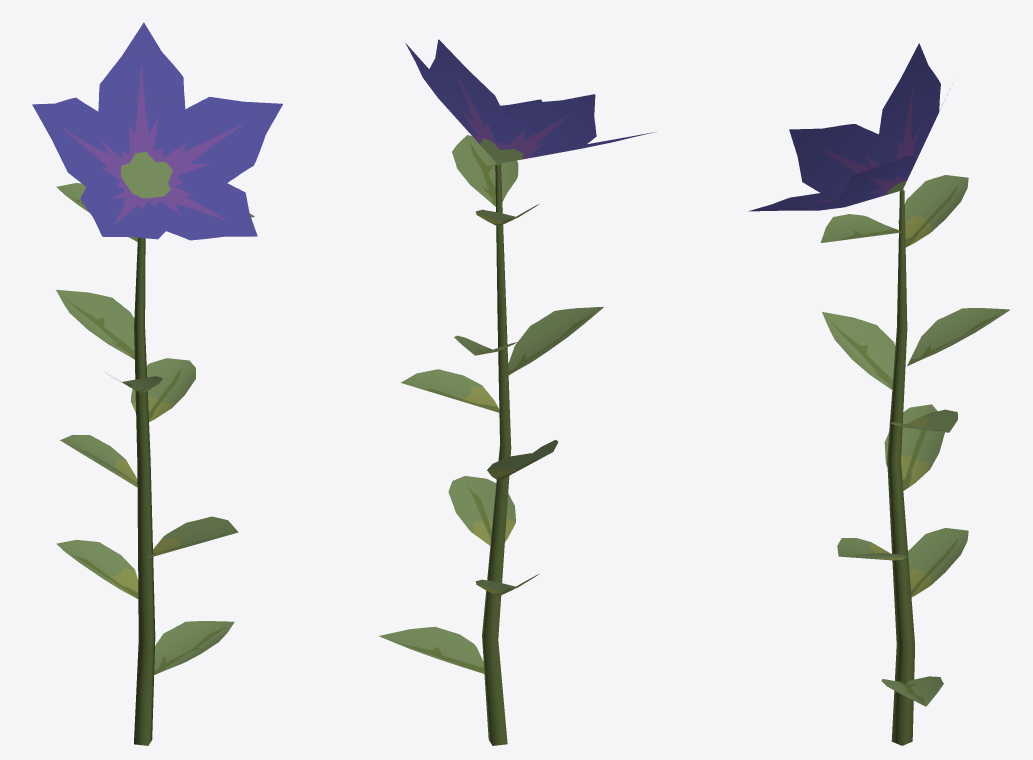
File: SM_Env_Flower_01.fbx
3 renders of one model, left to right at view 1: azimuth 30°, elevation 25°; view 2: azimuth 150°, elevation 25°; view 3: azimuth 270°, elevation 25°, orthographic. The views are drawn at different scales.
Visible parts, largest first — view 1: SM_Env_Flower_01_LOD0; view 2: SM_Env_Flower_01_LOD0; view 3: SM_Env_Flower_01_LOD0.
Boxes of the visible parts, x1=… form: SM_Env_Flower_01_LOD0: x1=32, y1=22, x2=282, y2=745; SM_Env_Flower_01_LOD0: x1=379, y1=39, x2=656, y2=745; SM_Env_Flower_01_LOD0: x1=748, y1=43, x2=1009, y2=745.
Size of what is drawn, in the model's own units: 20.71 by 49.87 by 19.57.
